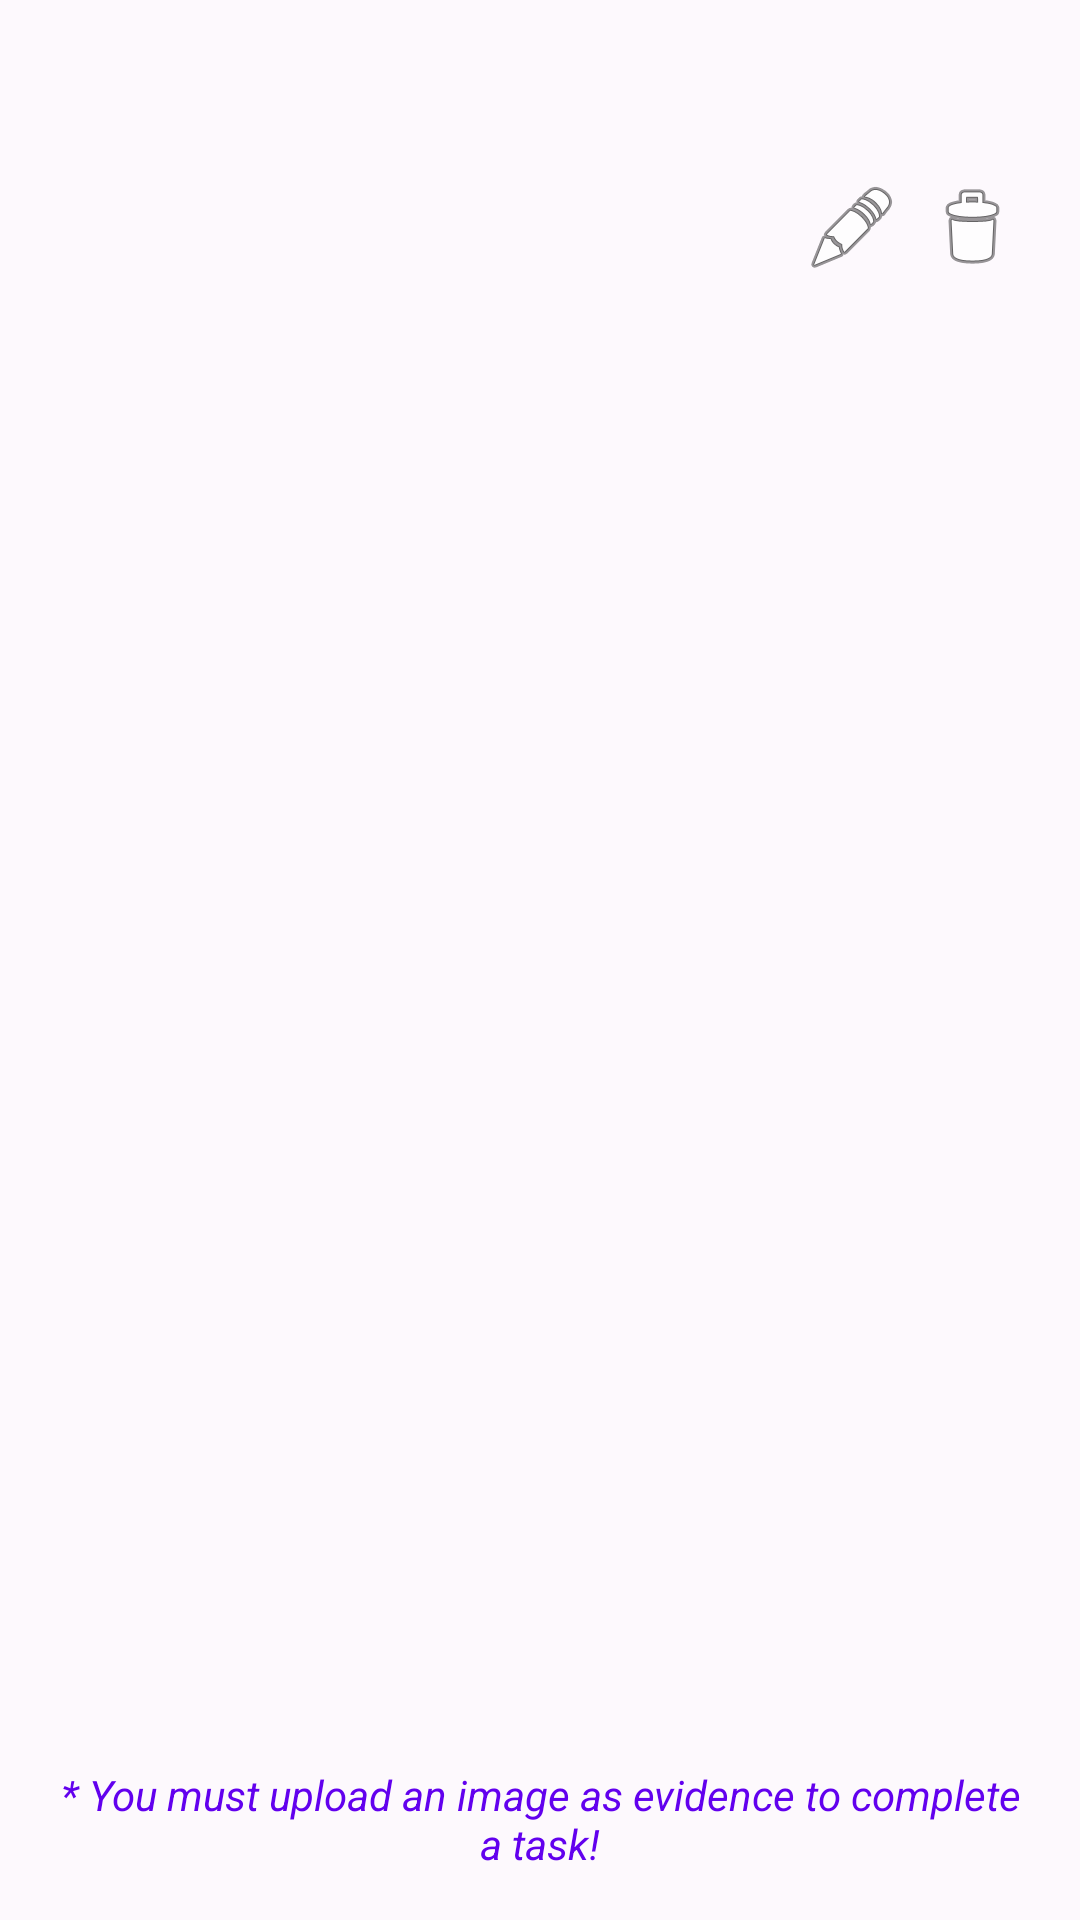

Named icons in this screenshot (1080*1920) and their bounding boxes, {"left": x1, "top": y1, "right": x2, "bottom": y2}:
Delete Task: {"left": 945, "top": 189, "right": 1000, "bottom": 264}
Edit Task: {"left": 811, "top": 187, "right": 892, "bottom": 268}
